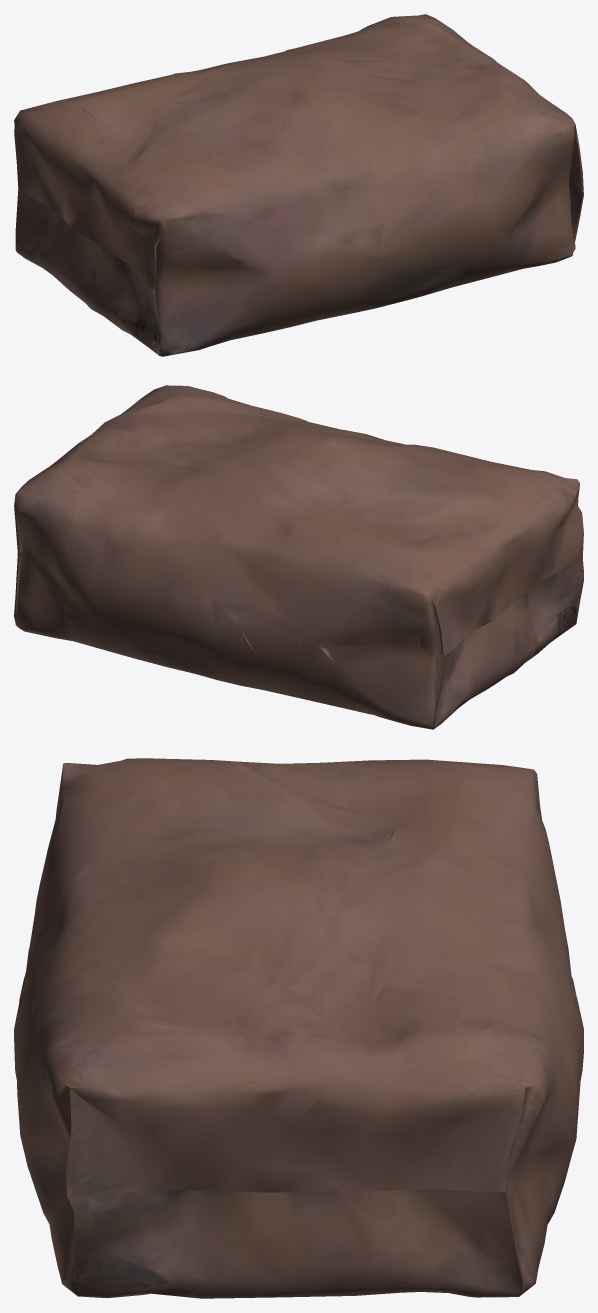
Rendered from item_brick_wrapped_idle.glb.
3 renders of one model, top to bottom at view 1: azimuth 30°, elevation 25°; view 2: azimuth 150°, elevation 25°; view 3: azimuth 270°, elevation 25°, orthographic. The views are drawn at different scales.
Visible parts, largest first — view 1: tripo_node_70a3994f-f3cc-4166-bc84-791bcb4abf4c; view 2: tripo_node_70a3994f-f3cc-4166-bc84-791bcb4abf4c; view 3: tripo_node_70a3994f-f3cc-4166-bc84-791bcb4abf4c.
Boxes of the visible parts, x1=… form: tripo_node_70a3994f-f3cc-4166-bc84-791bcb4abf4c: x1=14, y1=14, x2=583, y2=356; tripo_node_70a3994f-f3cc-4166-bc84-791bcb4abf4c: x1=14, y1=385, x2=583, y2=729; tripo_node_70a3994f-f3cc-4166-bc84-791bcb4abf4c: x1=14, y1=758, x2=583, y2=1298.
Size of the model in its own units: 0.3004 by 0.1212 by 0.2183.
1 material, 1 textured.
